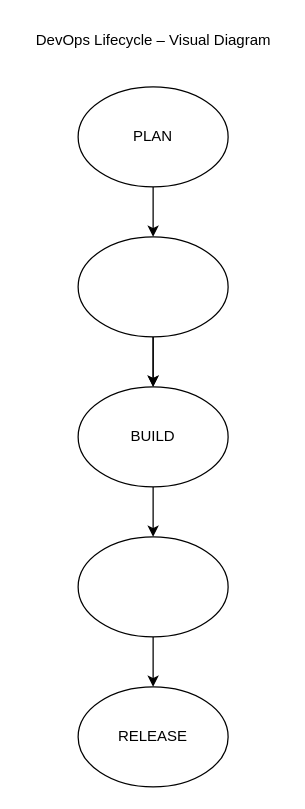
This 305x809 diagram has some shape labels left out. The box of each missing label's shape, as (x1, y1, x2, y2) in pixels:
DEVELOP: (77, 236, 228, 337)
TEST: (77, 536, 228, 637)
